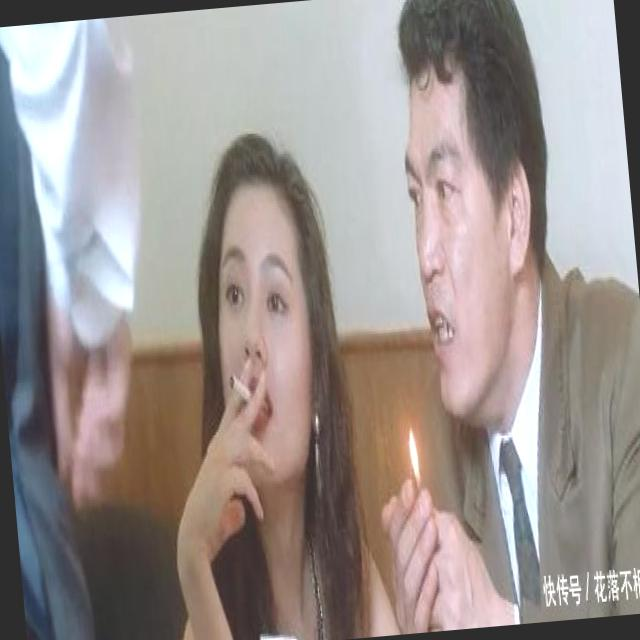smoke: (222, 344, 264, 427)
